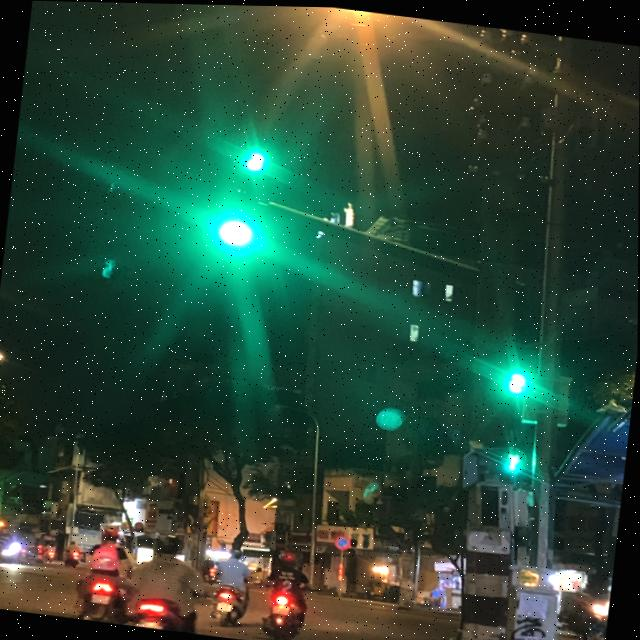Green: (207, 175, 272, 275)
